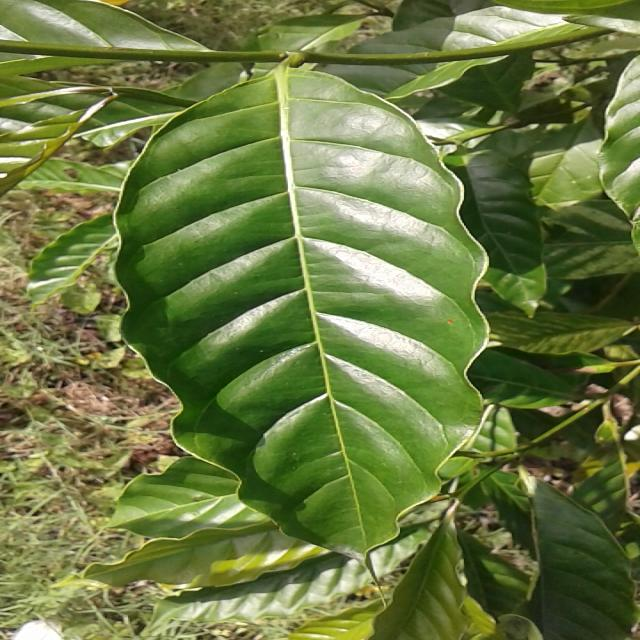Sanas: (113, 66, 490, 558)
